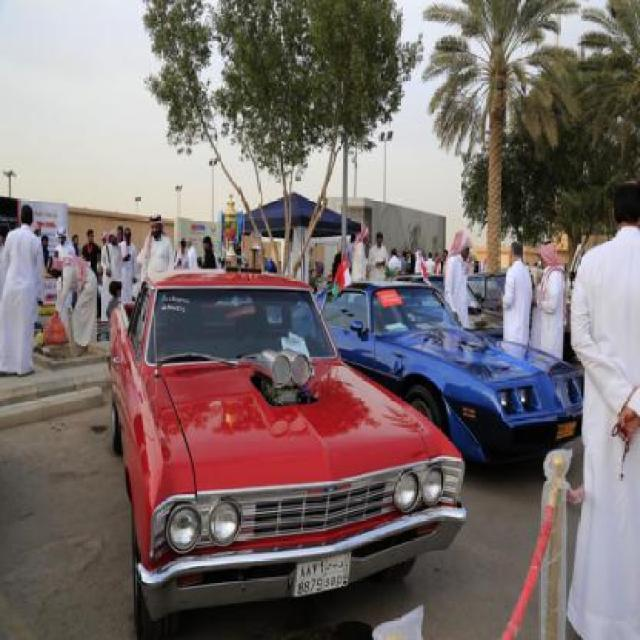license_plate: (291, 544, 354, 598)
